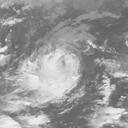cyclone: (21, 48, 83, 103)
